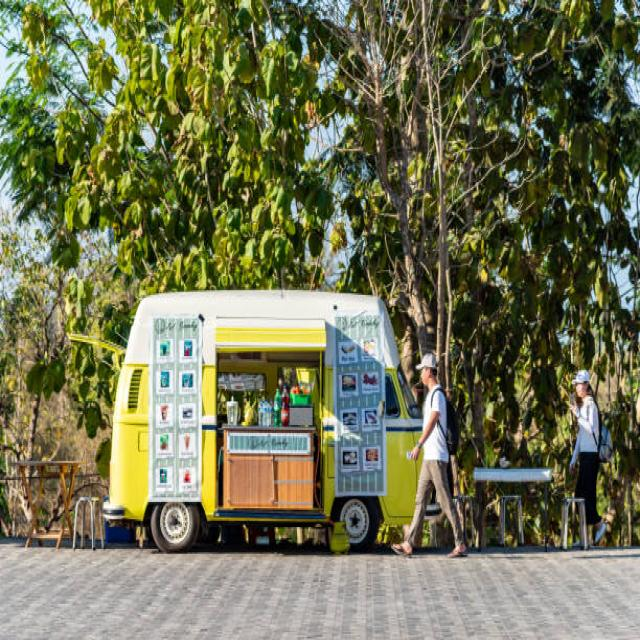Emperan: (96, 278, 442, 558)
